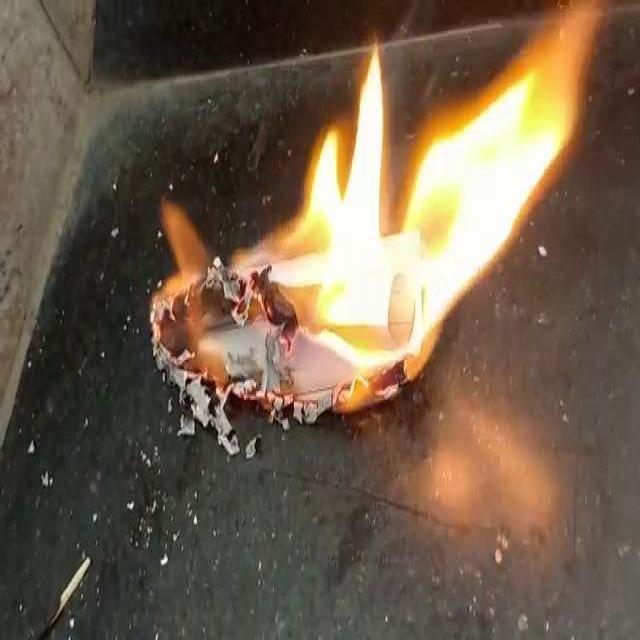Fire: (272, 44, 598, 351)
